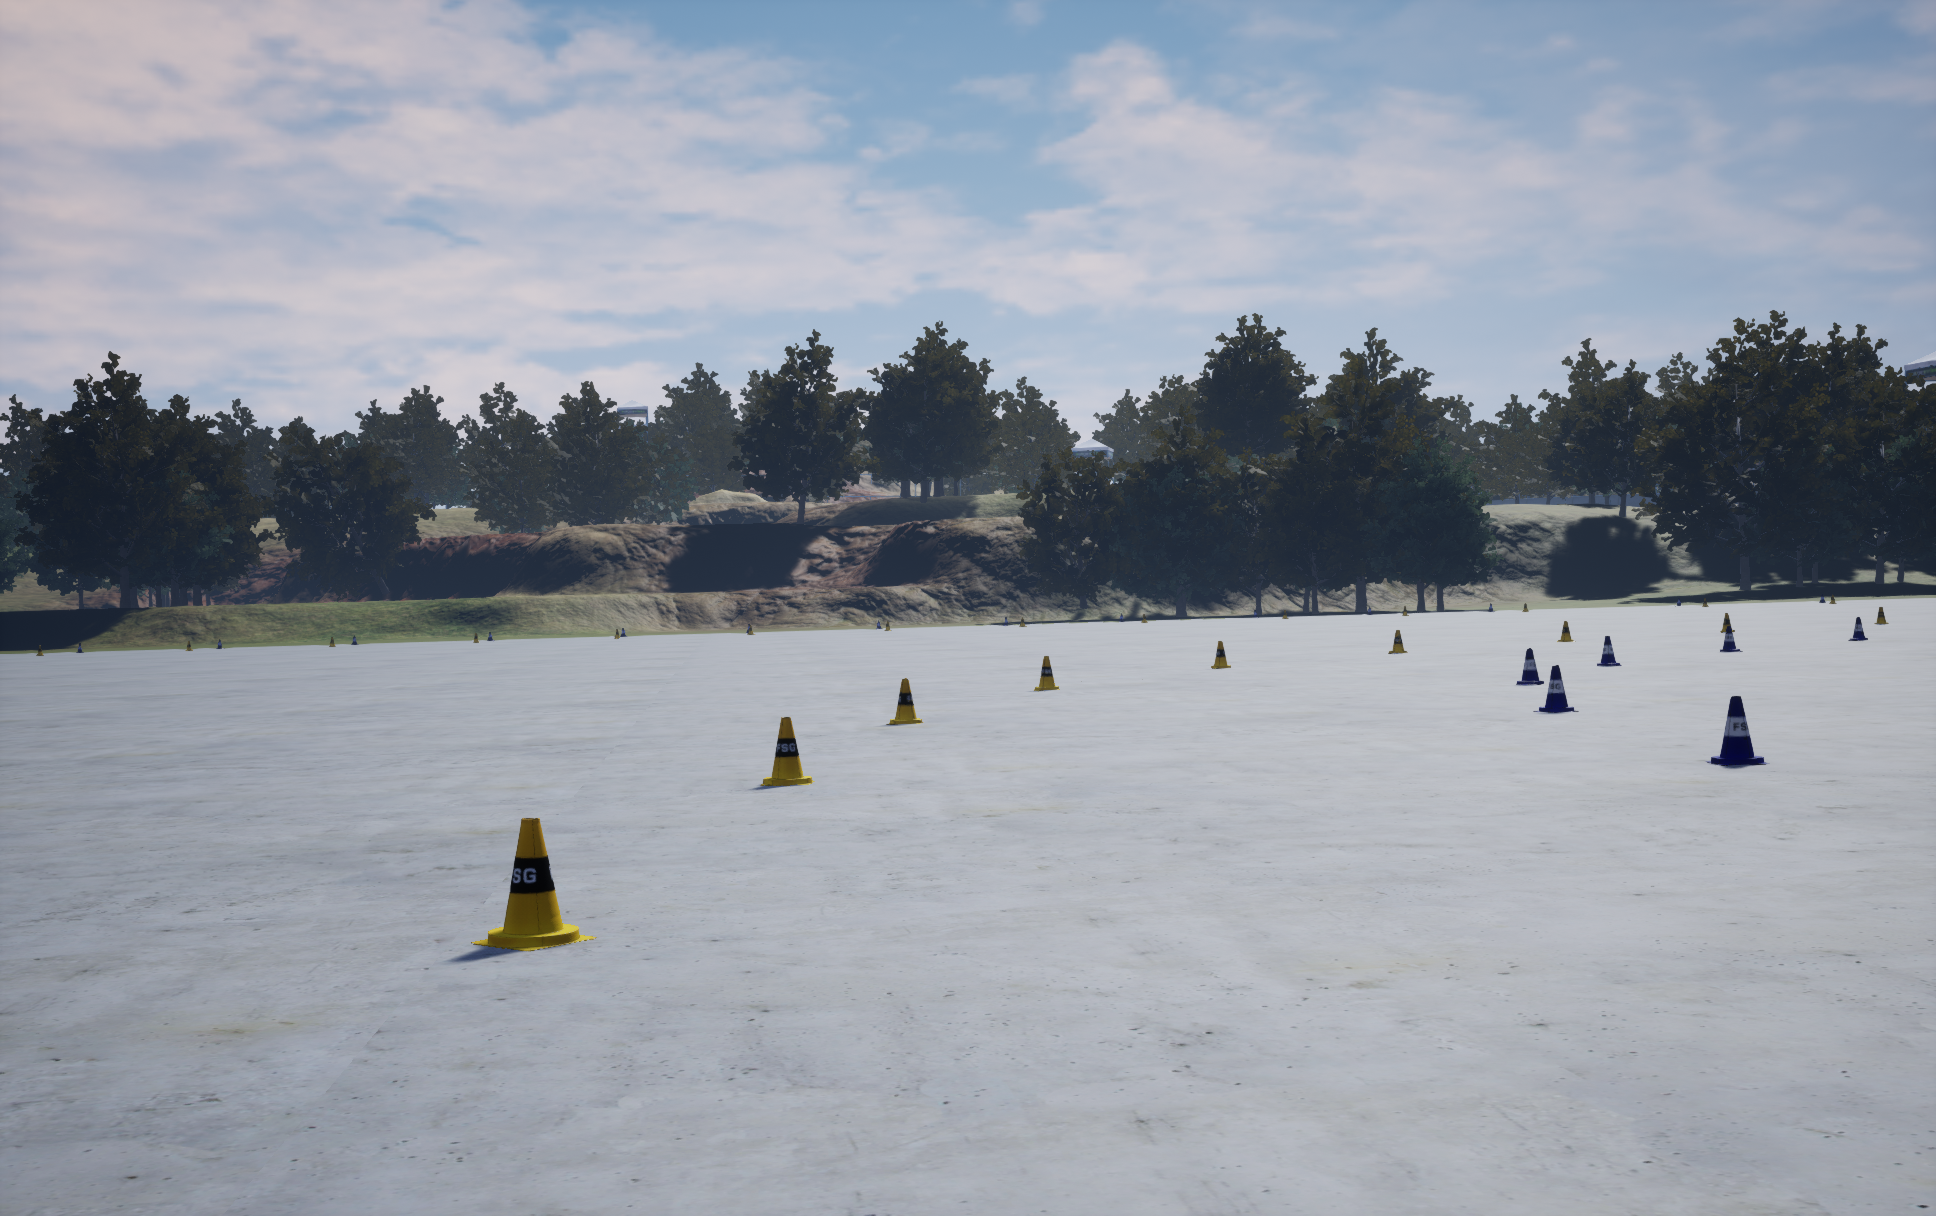blue: (471, 818, 595, 950), (761, 717, 814, 785), (885, 678, 923, 724), (1034, 656, 1059, 691), (1210, 642, 1230, 668), (1388, 630, 1406, 653), (1556, 621, 1575, 642)
yellow: (1705, 696, 1769, 765), (1533, 665, 1577, 712), (1516, 649, 1542, 684), (1597, 636, 1621, 665), (1720, 626, 1743, 651), (1848, 616, 1867, 640)
